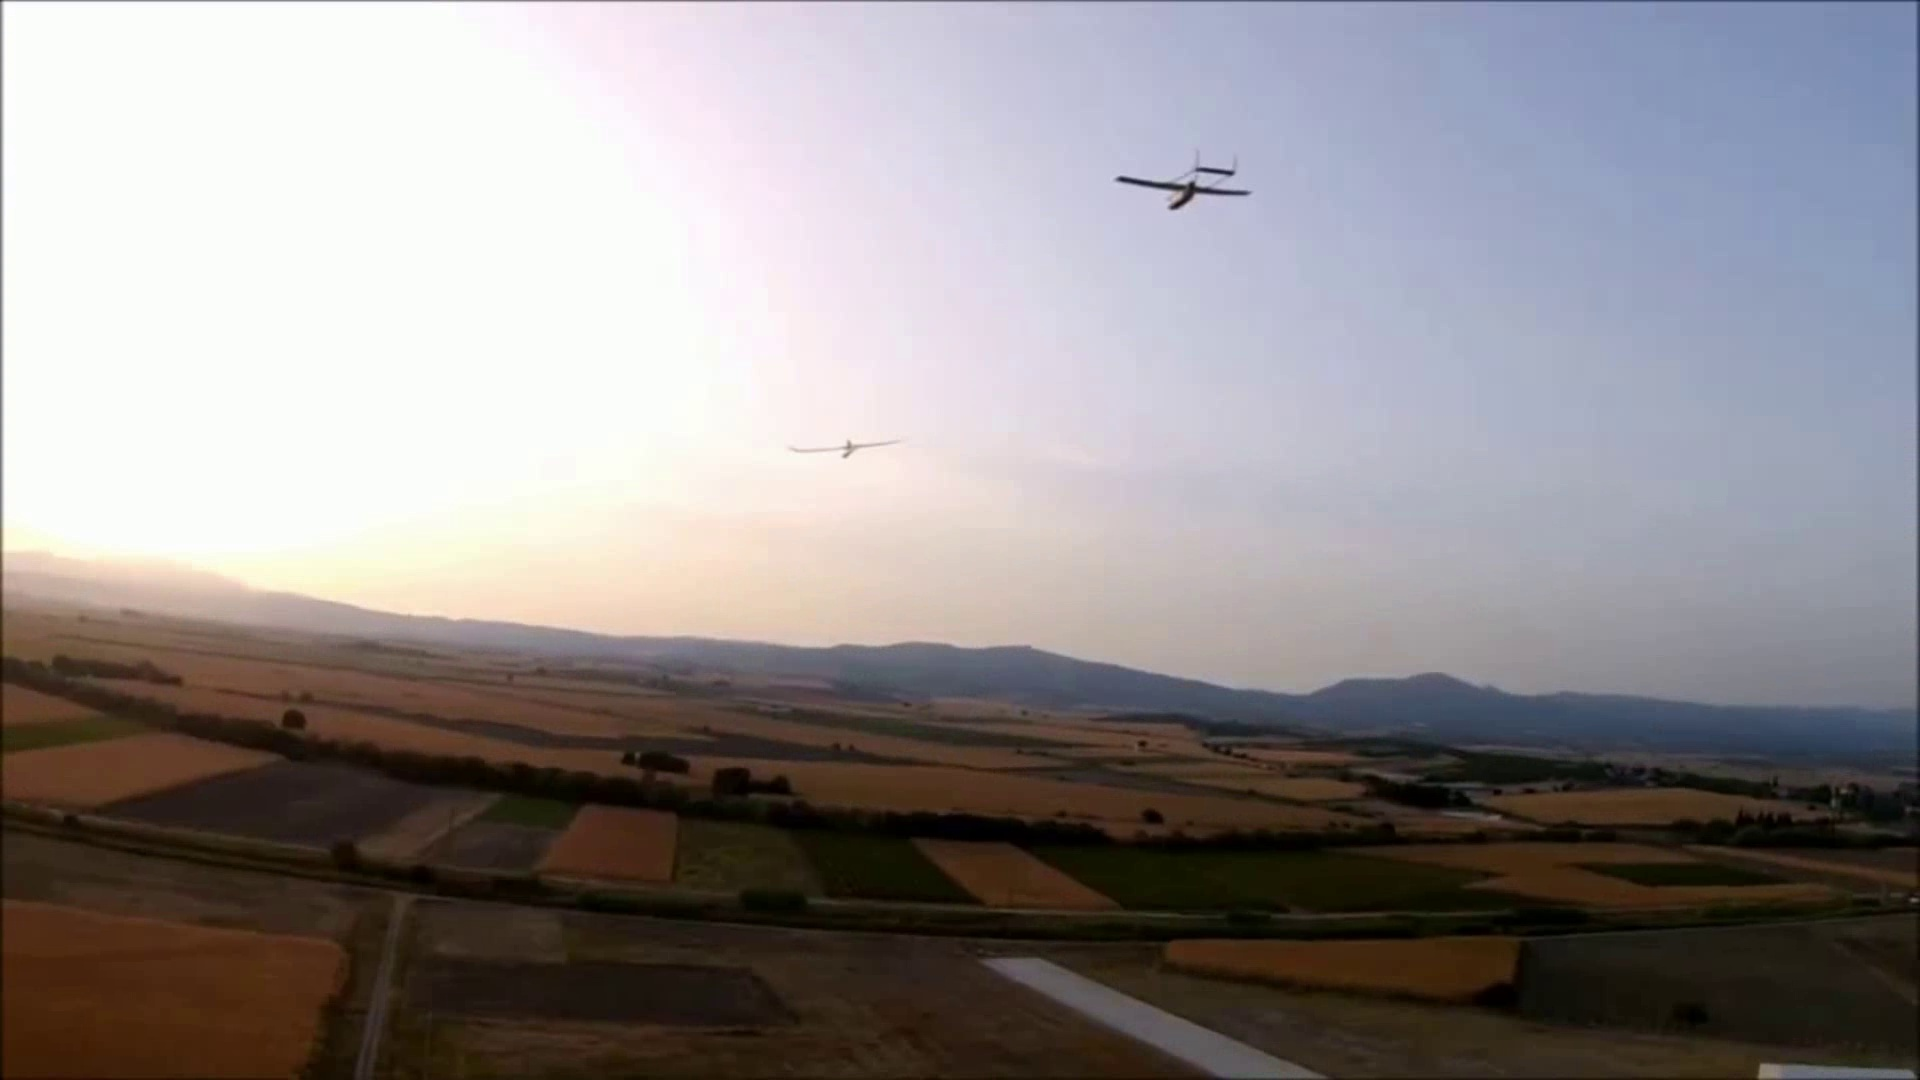airplane: (1112, 154, 1249, 209)
